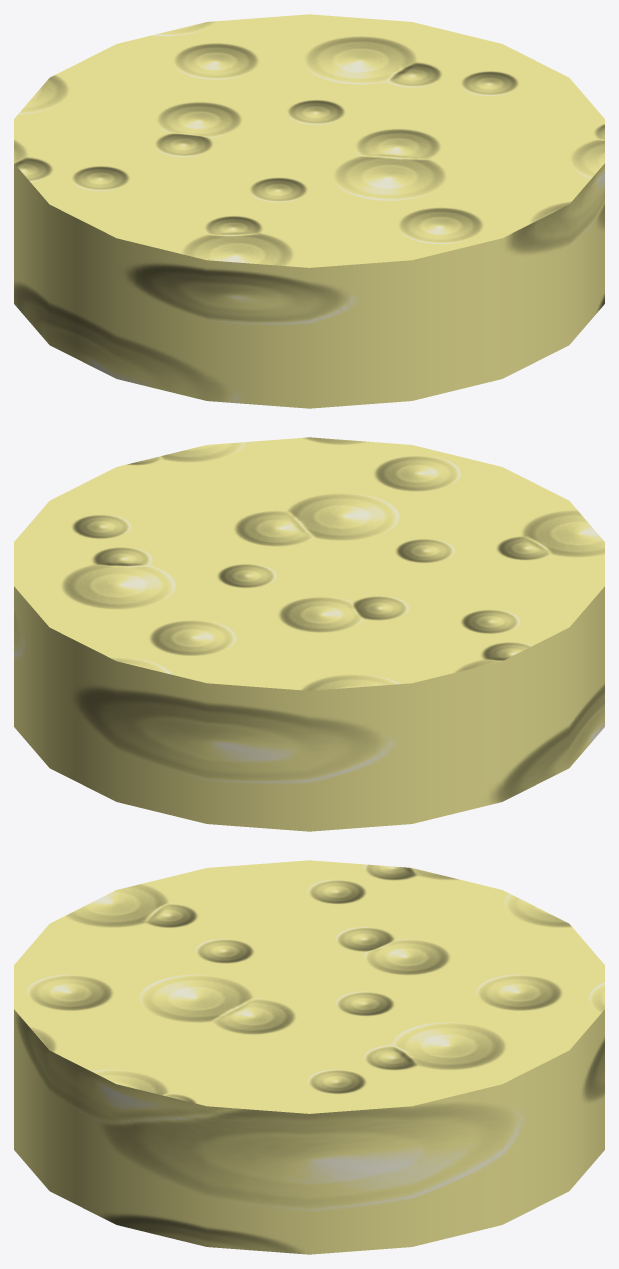
File: cheese.obj
3 renders of one model, top to bottom at view 1: azimuth 30°, elevation 25°; view 2: azimuth 150°, elevation 25°; view 3: azimuth 270°, elevation 25°, orthographic.
Parts seen in each view (by area): view 1: Cylinder001; view 2: Cylinder001; view 3: Cylinder001.
Boxes of the visible parts, x1,y1,x2,y2 form: Cylinder001: (14, 14, 604, 408); Cylinder001: (14, 437, 604, 831); Cylinder001: (14, 860, 604, 1254).
Size of the model in its own units: 25.55 by 6.61 by 25.16.
